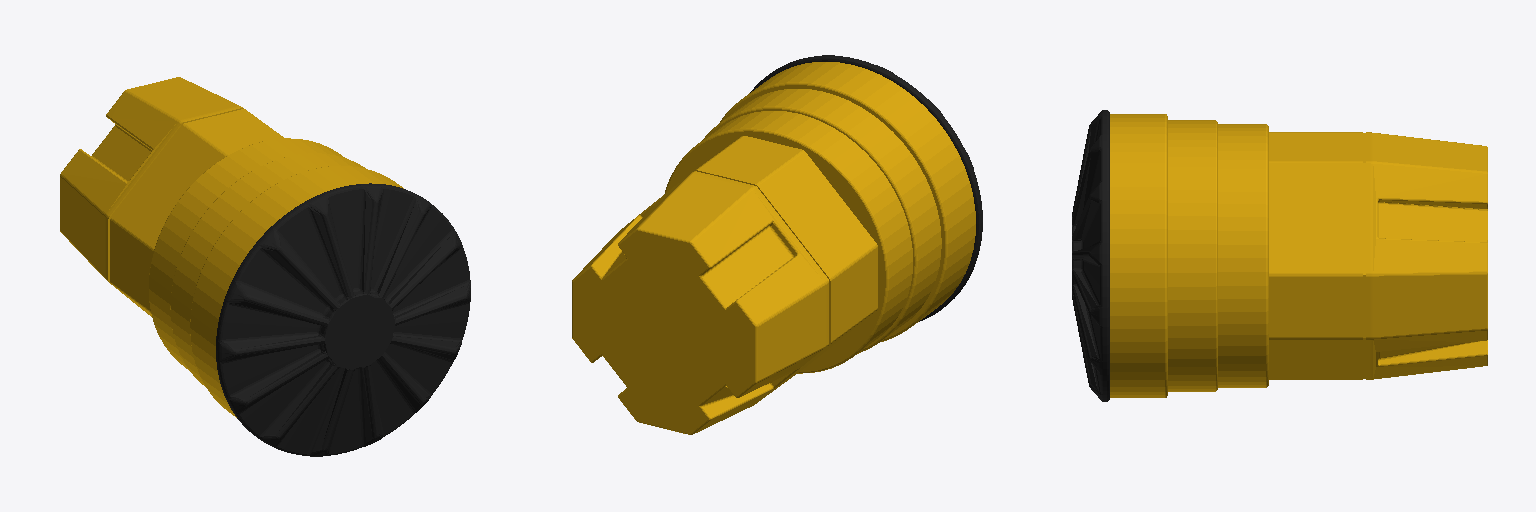
Rendered from safetybarrel.obj.
The picture shows the model from 3 angles: view 1: azimuth 30°, elevation 25°; view 2: azimuth 150°, elevation 25°; view 3: azimuth 270°, elevation 25°; orthographic projection.
Visible parts, largest first — view 1: safety_bar; view 2: safety_bar; view 3: safety_bar.
Boxes of the visible parts, x1,y1,x2,y2 form: safety_bar: [60, 77, 470, 456]; safety_bar: [572, 55, 982, 434]; safety_bar: [1072, 110, 1487, 401].
Bounding box in the file's own units: 31.87 × 31.87 × 45.5.